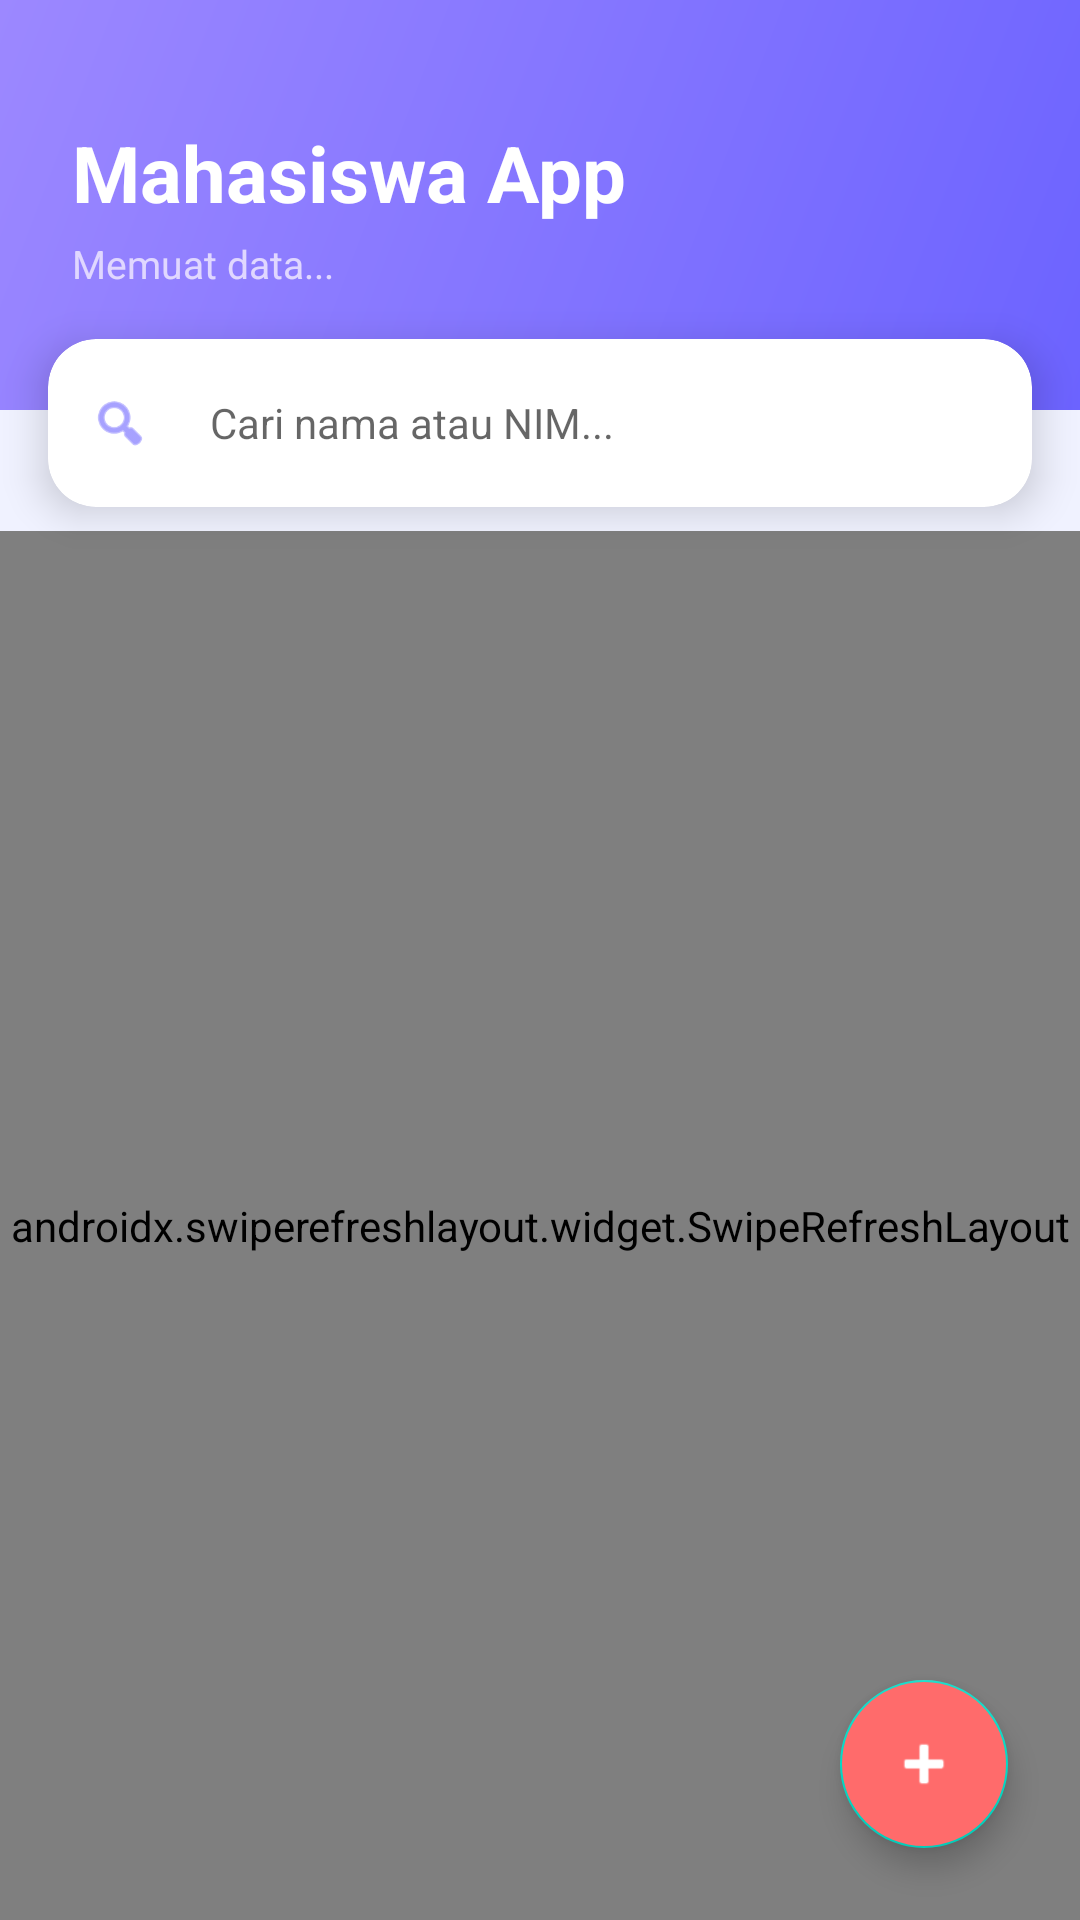

Named icons in this screenshot (1080 x 1920) and their centers, point (x, y):
search: point (120, 423)
Tambah Mahasiswa: point (924, 1764)
